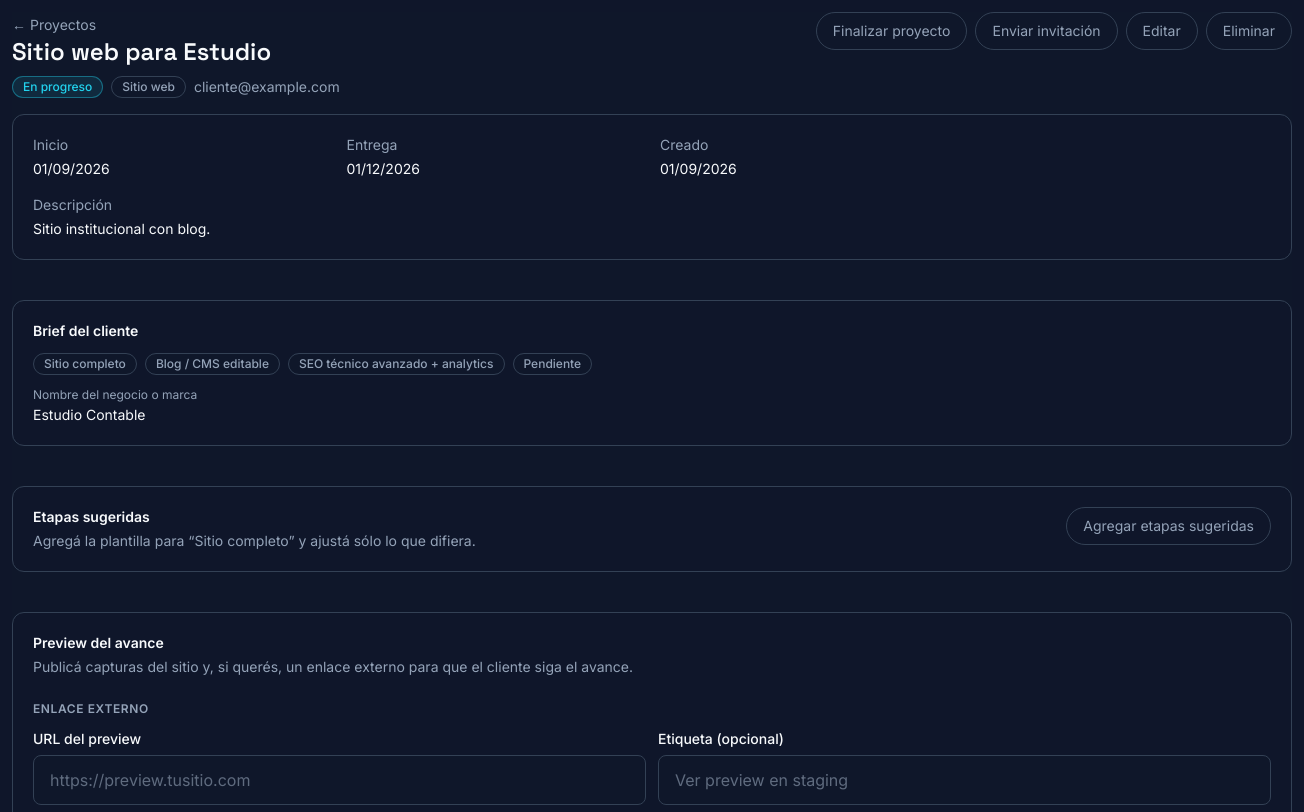
Test: ProjectDetailPage › finaliza el proyecto y muestra la fecha de cierre
Expected: the heading "Sitio web para Estudio" is shown, [12,36,271,67]
Click the button "Finalizar proyecto".
click(892, 31)  # box [816,12,968,50]
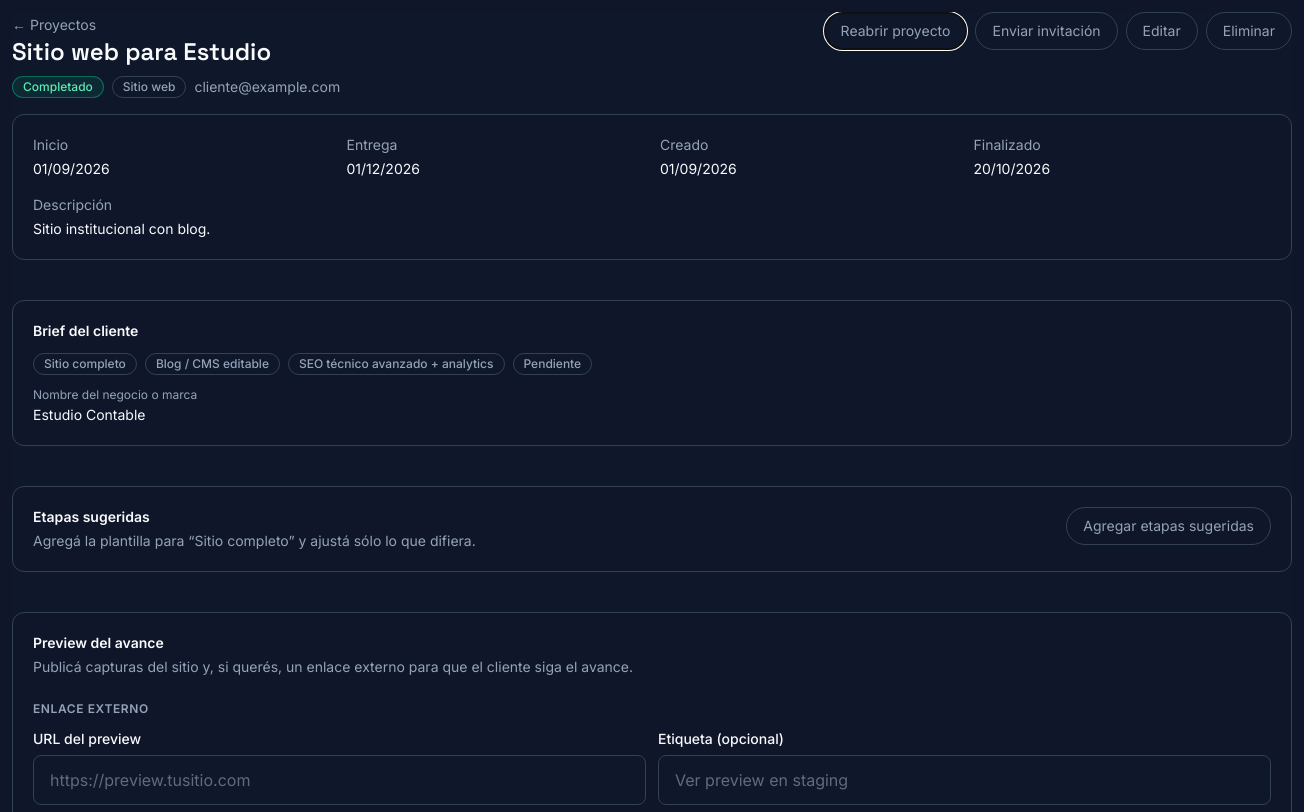
Result: the text "20/10/2026" is shown at [974,160,1050,177]
